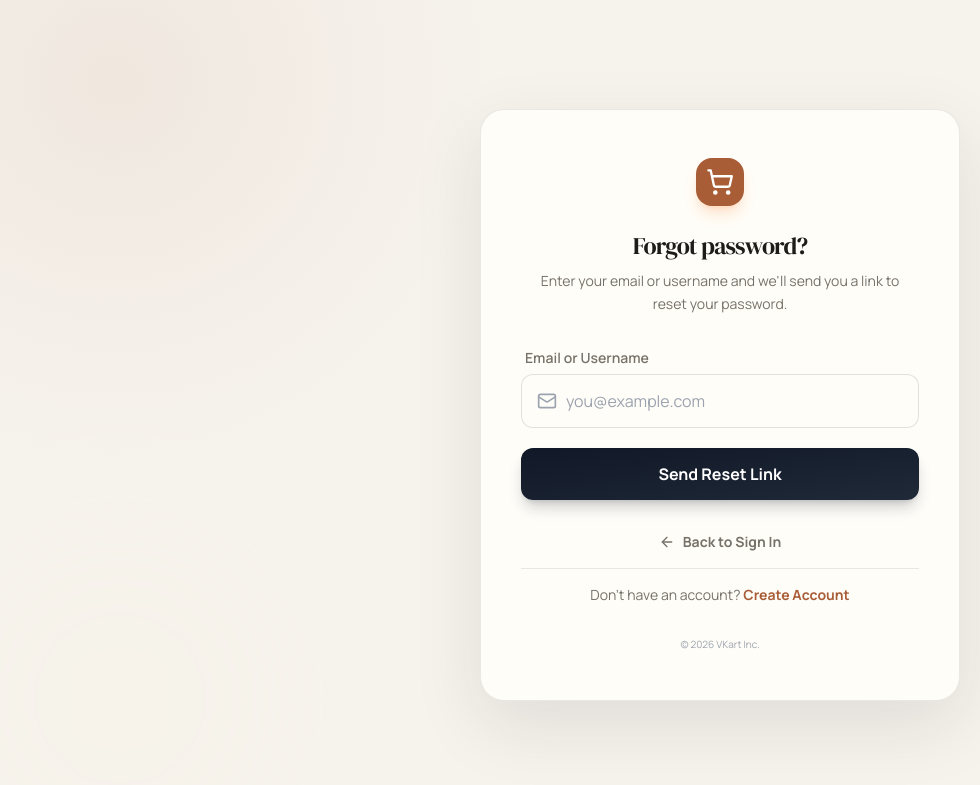
Test case: ForgotPassword Component › blocks submit and shows validation error when field is empty
Click the button "Send Reset Link" at (720, 474), box [521,448,919,500]
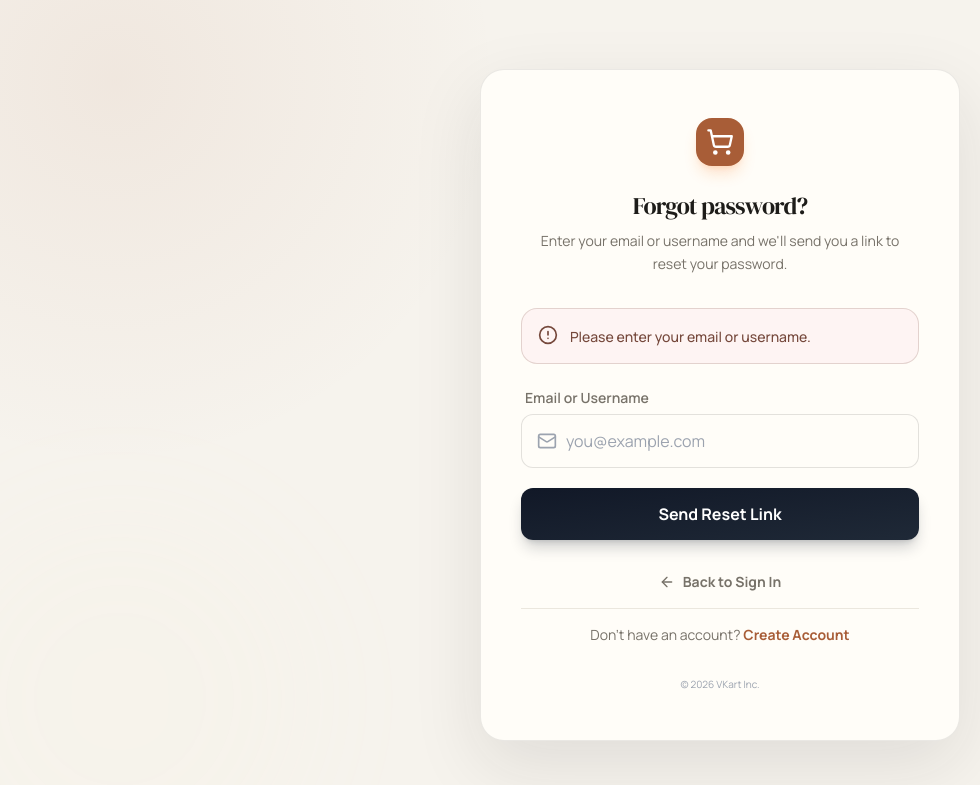
Expected: the text "Please enter your email or username." is shown, [570,325,811,347]
